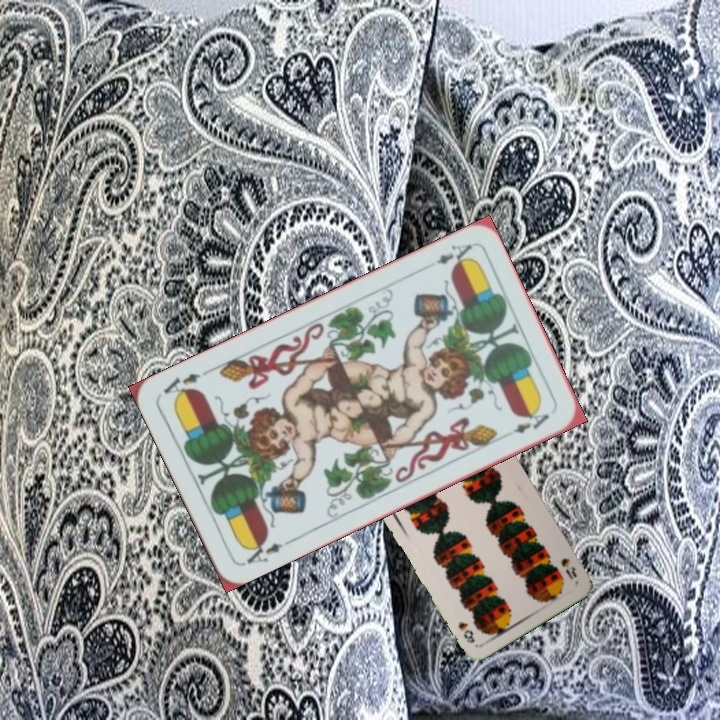EA: (239, 534, 286, 568), (432, 240, 475, 270)
S8: (557, 554, 580, 583)
